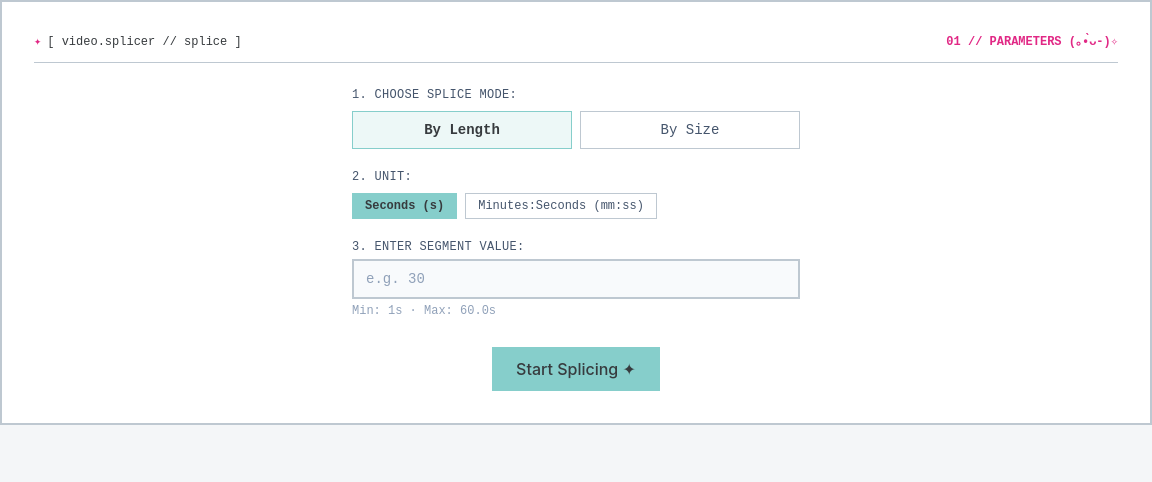
Test: SplicePanel › mode and value form validation › validates ByLength maximum segment length (cannot exceed video duration)
Type "75" into the field with test id "splice-value-input" at (576, 279), box [352,259,800,299]
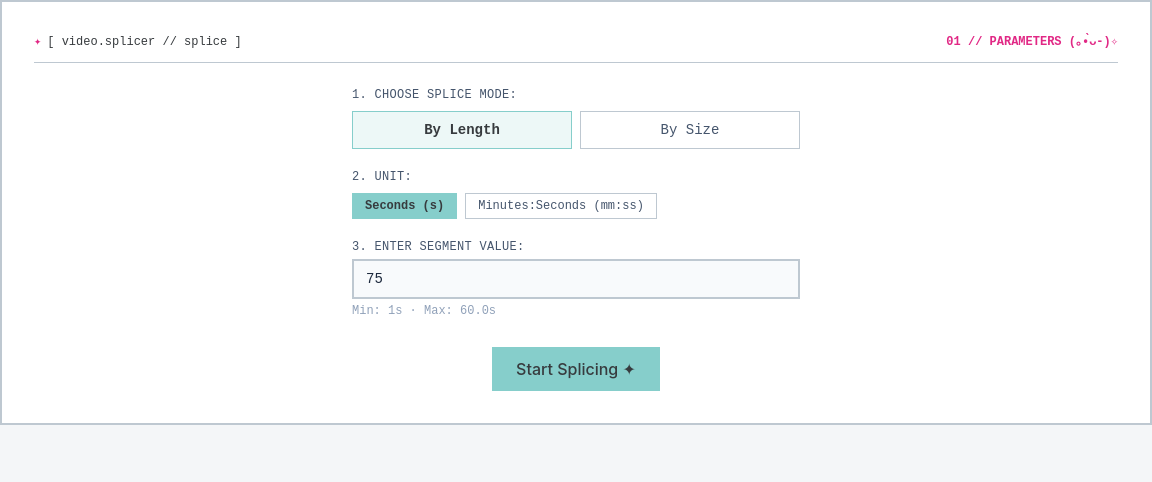
Click the button with test id "start-splice-btn" at (576, 369), box [492,347,660,391]
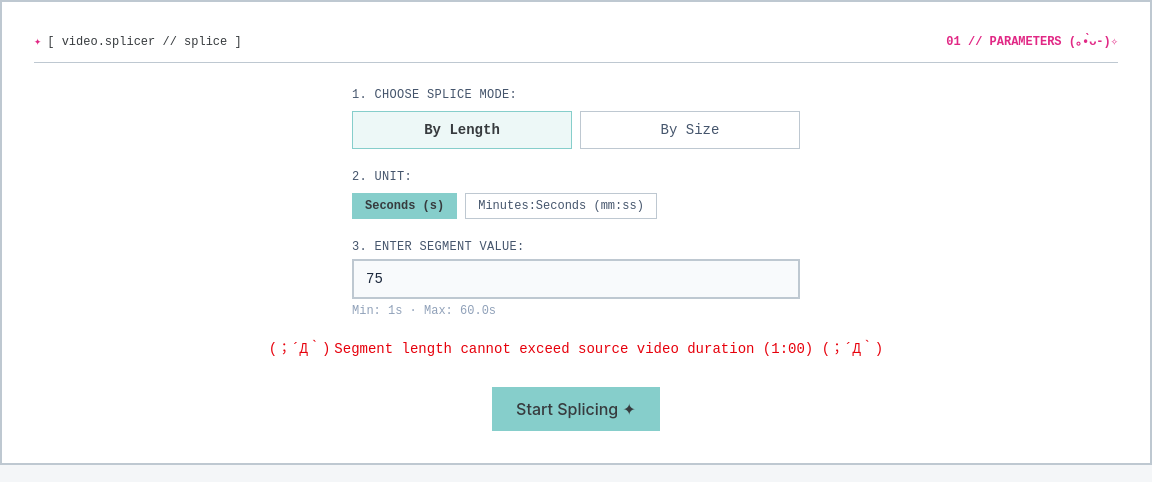
Now the message with test id "splice-validation-error" shows "Segment length cannot exceed source video duration", box [334,341,883,357]
